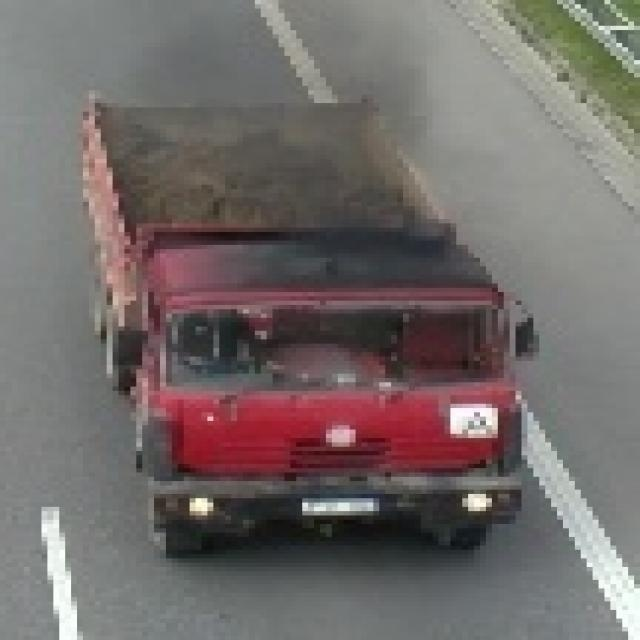Truck: (71, 90, 528, 563)
